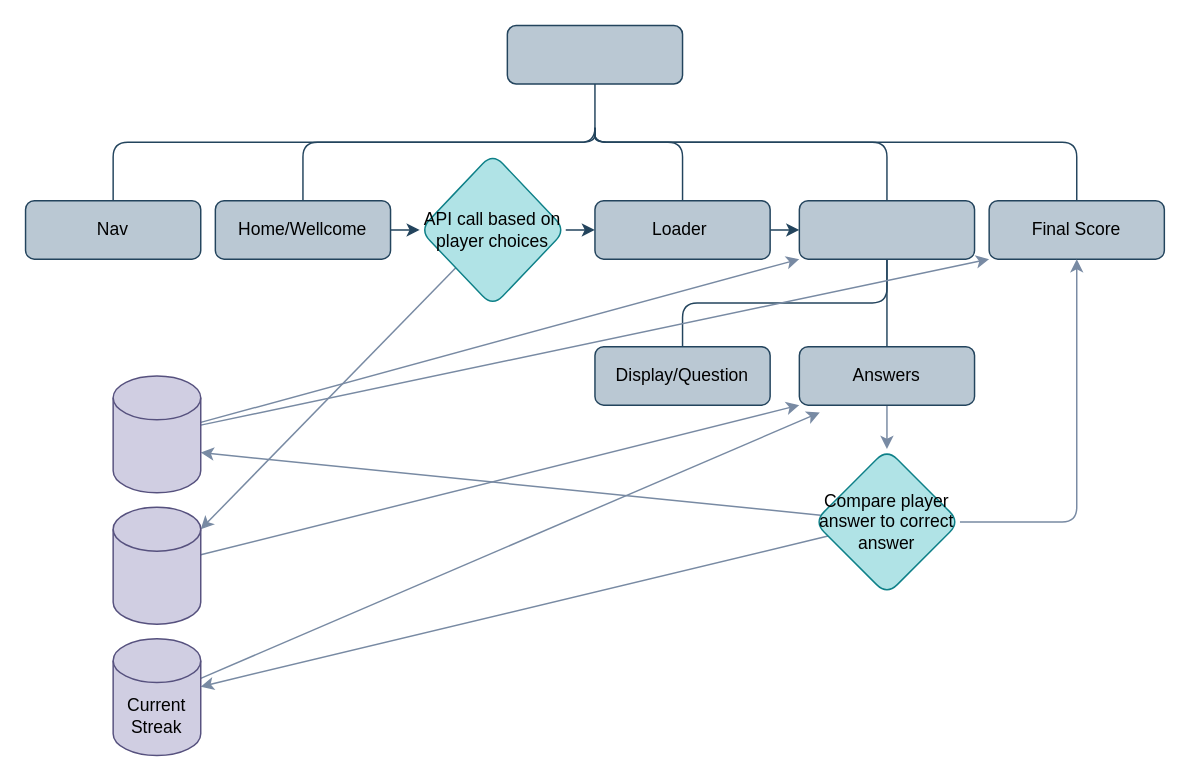
The diagram is 1190 pixels wide and 781 high, and some of its shapes have lost their labels. The shapes that lost their labels are listed below. From the top down, each one's box as (x1, y1, x2, y2) in pixels, then its label:
(506, 24, 683, 84): App
(798, 199, 975, 259): Game
(112, 374, 201, 493): Score
(112, 506, 201, 624): Questions & Answers
